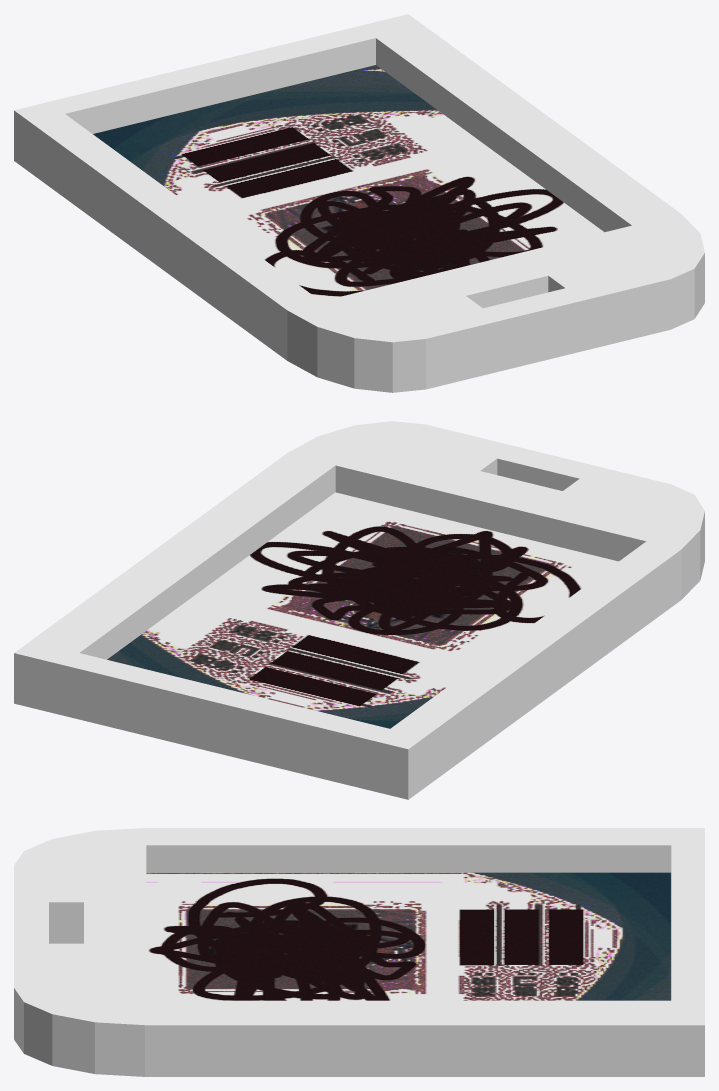
The model's file is card.fbx.
3 views of the same model, one above another, from view 1: azimuth 30°, elevation 25°; view 2: azimuth 150°, elevation 25°; view 3: azimuth 270°, elevation 25° (orthographic). The views are drawn at different scales.
Parts seen in each view (by area): view 1: Cube.002; view 2: Cube.002; view 3: Cube.002.
Part boxes in pixels (<box>): Cube.002: <box>14,14,704,392</box>; Cube.002: <box>14,421,704,799</box>; Cube.002: <box>14,828,704,1076</box>.
Size of the model in its own units: 10.2 by 1.25 by 15.11.
